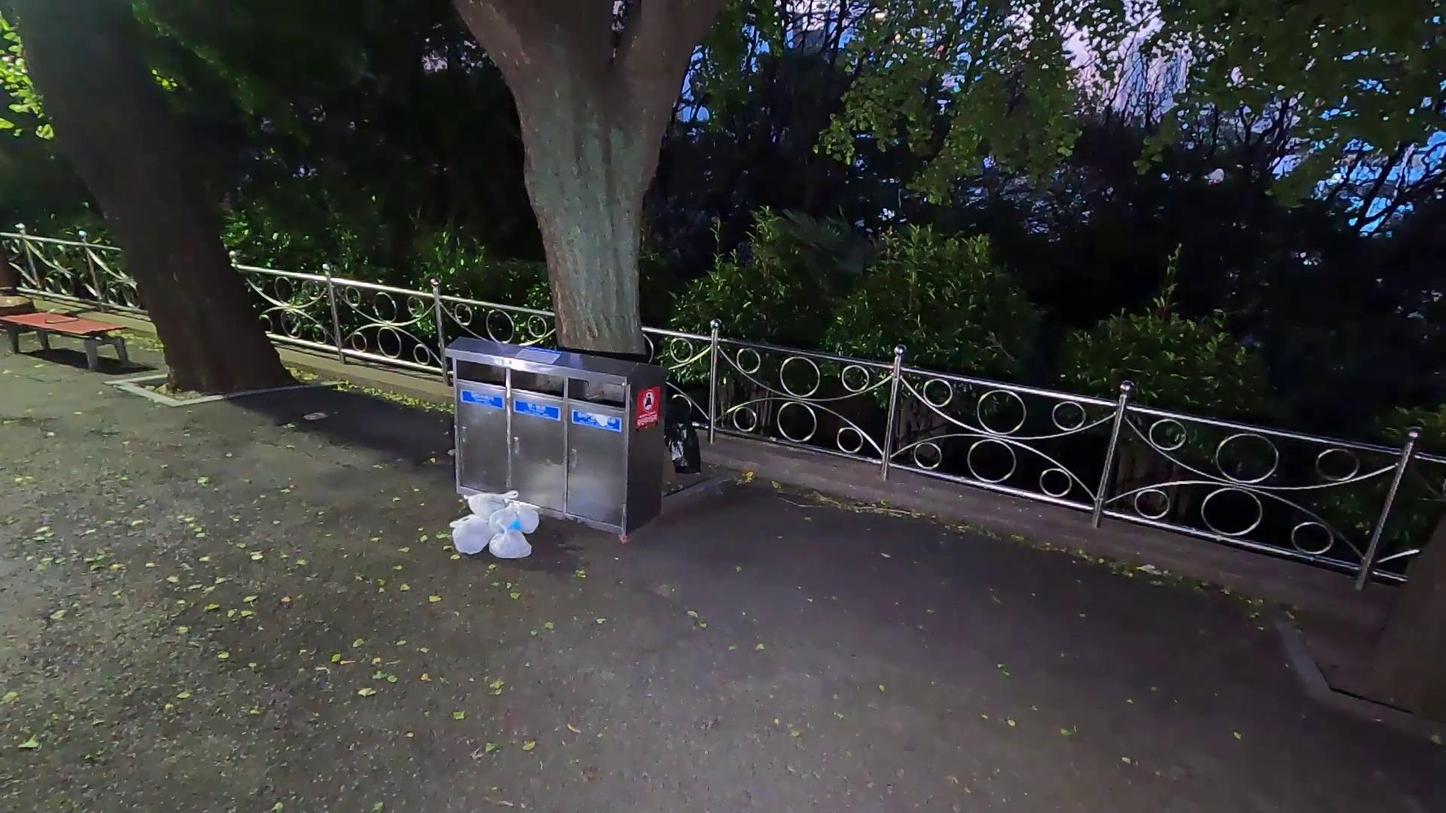trash: (667, 396, 710, 485), (482, 511, 537, 566), (448, 512, 505, 562), (463, 485, 525, 530), (497, 494, 542, 534)
